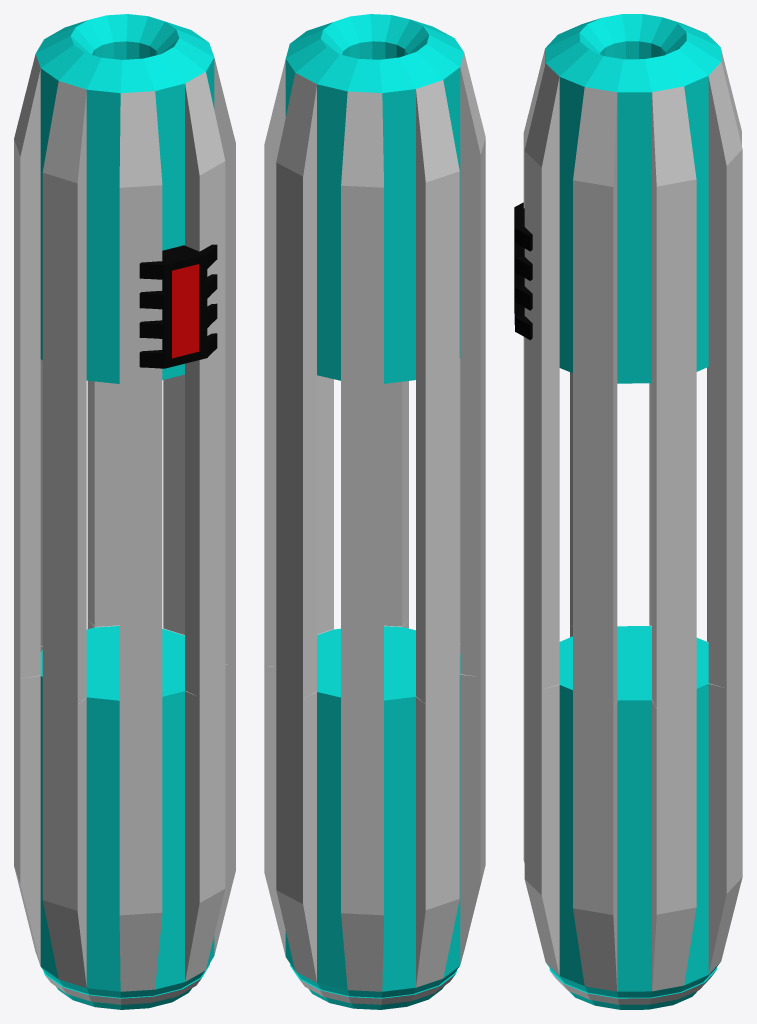
File: flymarkermodel.fbx
3 renders of one model, left to right at view 1: azimuth 30°, elevation 25°; view 2: azimuth 150°, elevation 25°; view 3: azimuth 270°, elevation 25°, orthographic.
Visible parts, largest first — view 1: Cylinder.003, Cube; view 2: Cylinder.003; view 3: Cylinder.003, Cube.
Part boxes in pixels (x1,y1,x2,y2): Cylinder.003: (14,14,235,1009); Cube: (139,244,217,368); Cylinder.003: (264,14,485,1009); Cylinder.003: (523,14,742,1009); Cube: (514,202,532,340).
Size of the model in its own units: 7.04 by 33.51 by 7.34.
